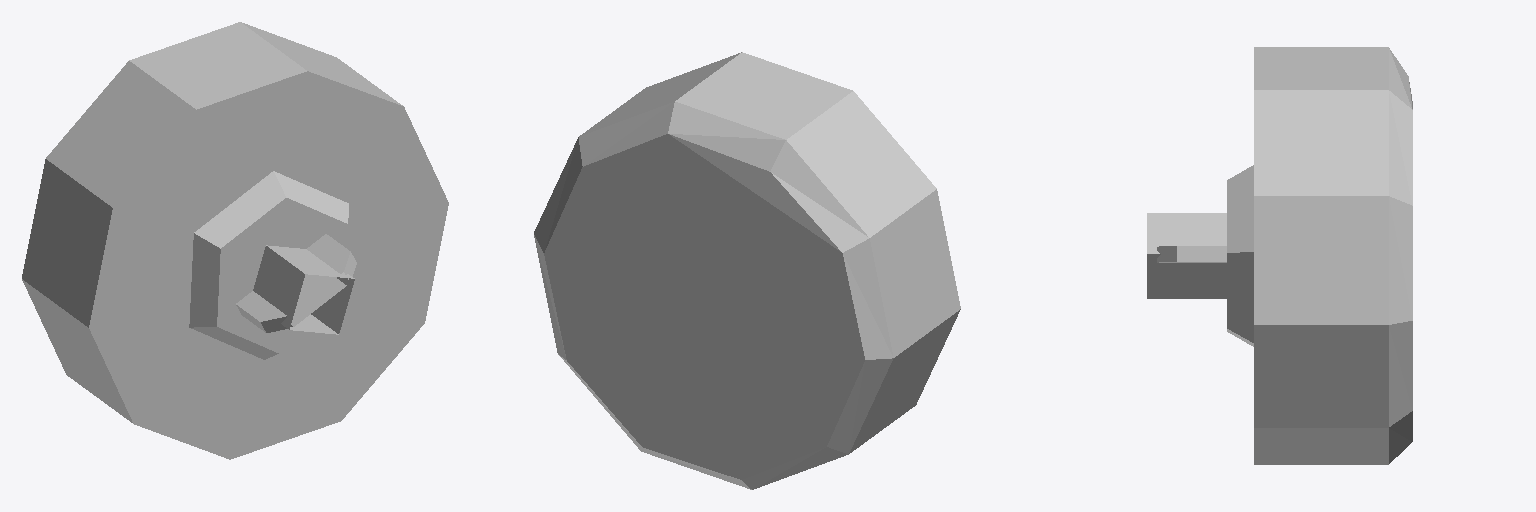
File: wheel88.obj
The picture shows the model from 3 angles: view 1: azimuth 30°, elevation 25°; view 2: azimuth 150°, elevation 25°; view 3: azimuth 270°, elevation 25°; orthographic projection.
Parts seen in each view (by area): view 1: wheel_low_textures; view 2: wheel_low_textures; view 3: wheel_low_textures.
Boxes of the visible parts, <box> form: wheel_low_textures: <box>22,22,448,459</box>; wheel_low_textures: <box>534,52,960,489</box>; wheel_low_textures: <box>1147,47,1412,464</box>.
Size of the model in its own units: 1.55 by 1.52 by 0.9907.